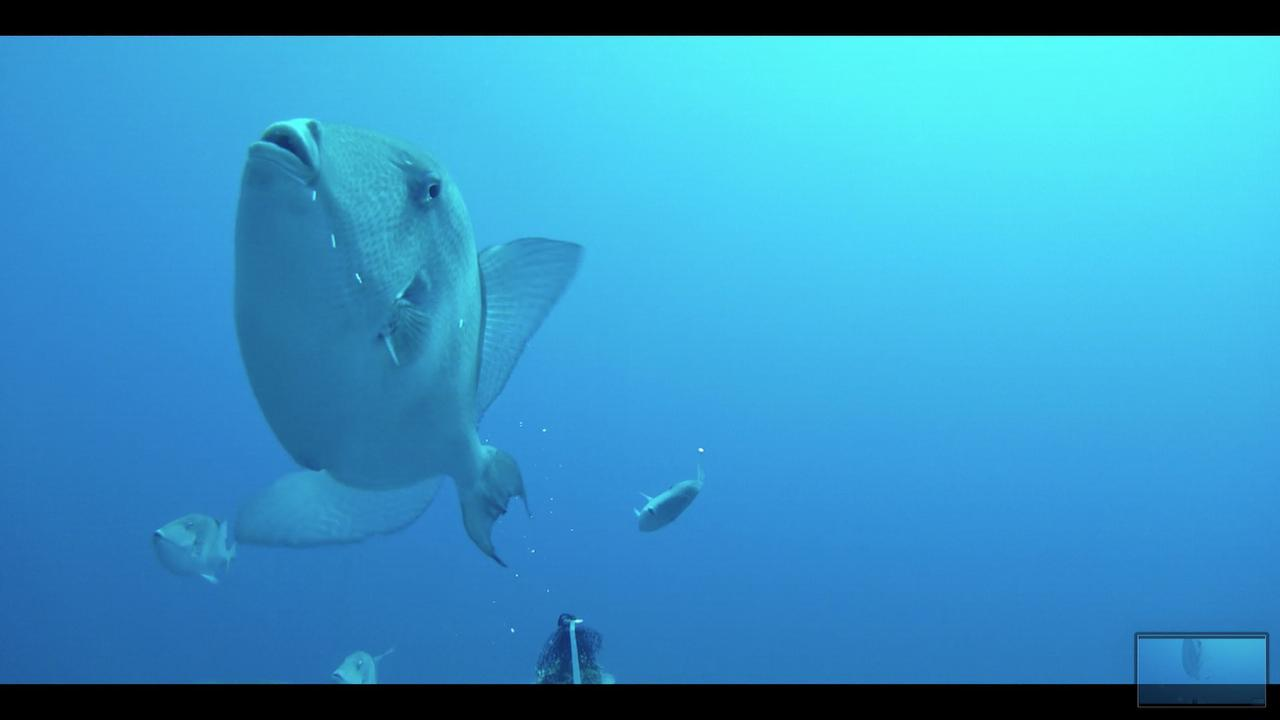balistes: (224, 110, 588, 570), (151, 505, 243, 584), (628, 456, 708, 538)
